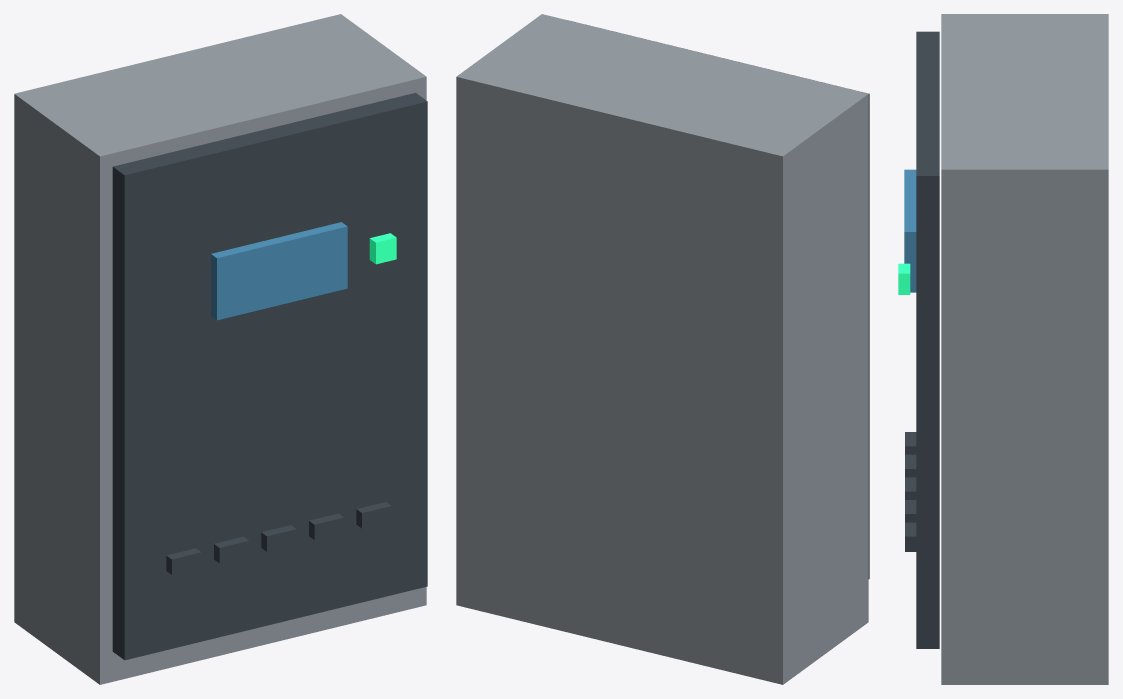
File: inverter-representative.gltf
The picture shows the model from 3 angles, left to right: view 1: azimuth 30°, elevation 25°; view 2: azimuth 150°, elevation 25°; view 3: azimuth 270°, elevation 25°; orthographic projection. The views are drawn at different scales.
Parts seen in each view (by area): view 1: face, body, display, status, vent3, vent4, vent0, vent1, vent2; view 2: body, face; view 3: body, face, display, status, vent4.
Boxes of the visible parts, x1,y1,x2,y2 form: face: [112, 92, 427, 660]; body: [14, 14, 426, 684]; display: [211, 222, 347, 320]; status: [369, 233, 396, 264]; vent3: [309, 513, 344, 540]; vent4: [356, 502, 391, 528]; vent0: [166, 548, 201, 574]; vent1: [214, 536, 249, 563]; vent2: [261, 525, 296, 551]; body: [456, 14, 868, 684]; face: [571, 21, 869, 578]; body: [941, 14, 1108, 684]; face: [916, 31, 939, 648]; display: [904, 169, 916, 292]; status: [898, 263, 910, 294]; vent4: [905, 522, 916, 551].
Size of the model in its own units: 0.55 by 0.85 by 0.314.
